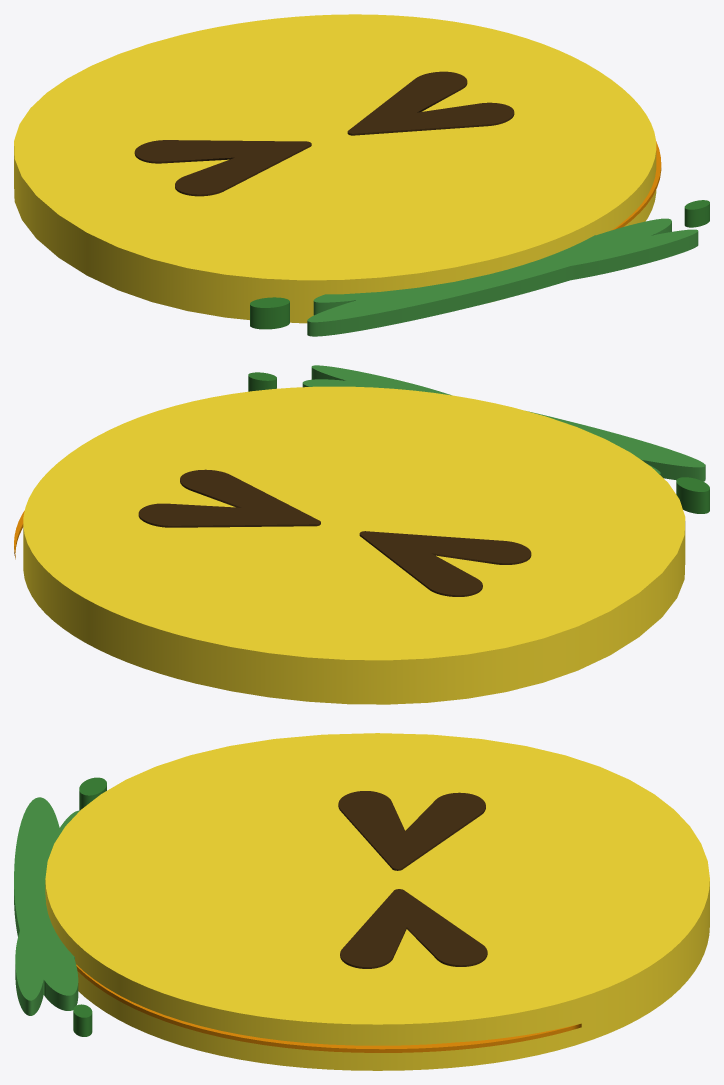
Rendered from emoji_u1f92e.glb.
3 views of the same model, one above another, from view 1: azimuth 30°, elevation 25°; view 2: azimuth 150°, elevation 25°; view 3: azimuth 270°, elevation 25° (orthographic). The views are drawn at different scales.
Parts seen in each view (by area): view 1: emoji_u1f92e; view 2: emoji_u1f92e; view 3: emoji_u1f92e.
Part boxes in pixels (box(x1,y1,x2,y2)): emoji_u1f92e: box(14, 14, 709, 336); emoji_u1f92e: box(14, 365, 709, 704); emoji_u1f92e: box(14, 733, 709, 1070).
Bounding box in the file's own units: 0.0328 × 0.0026 × 0.0327.
